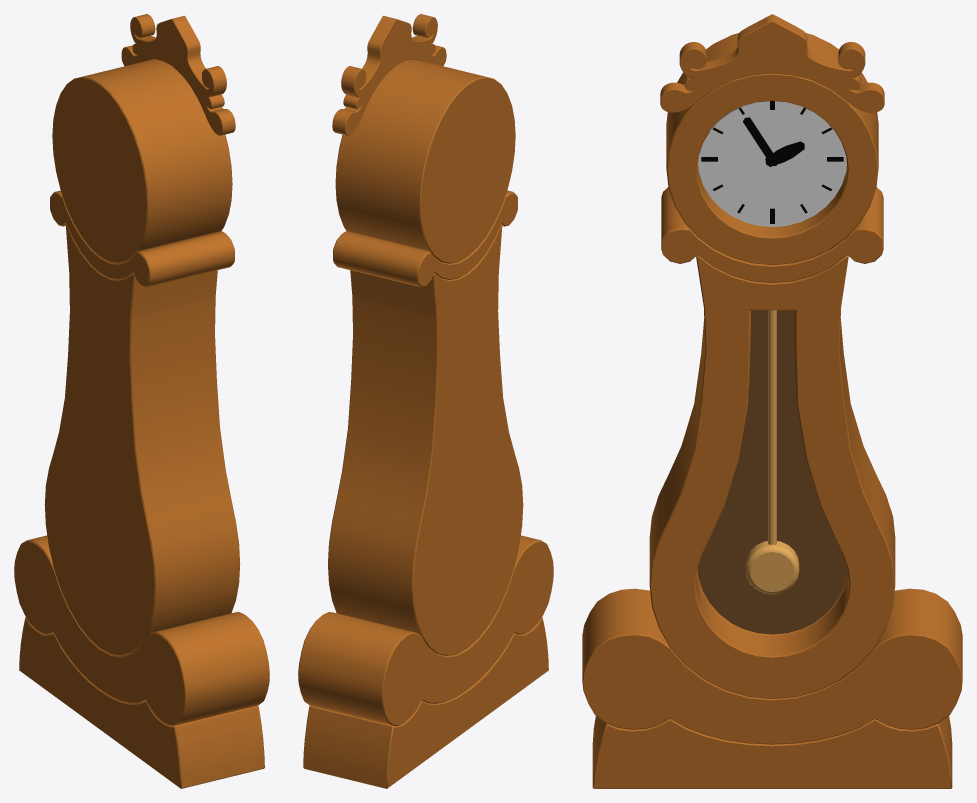
Rendered from Clock2.glb.
3 views of the same model, side by side, from view 1: azimuth 30°, elevation 25°; view 2: azimuth 150°, elevation 25°; view 3: azimuth 270°, elevation 25° (orthographic). The views are drawn at different scales.
Parts seen in each view (by area): view 1: Clock3; view 2: Clock3; view 3: Clock3, Clock3_pendulum, Clock3_minute.
Boxes of the visible parts, x1,y1,x2,y2 form: Clock3: (14,14,269,788); Clock3: (298,14,553,788); Clock3: (582,14,962,788); Clock3_pendulum: (745,310,799,594); Clock3_minute: (743,117,804,166).
Size of the model in its own units: 0.252 by 1.95 by 0.8751.
5 materials, 1 textured.
